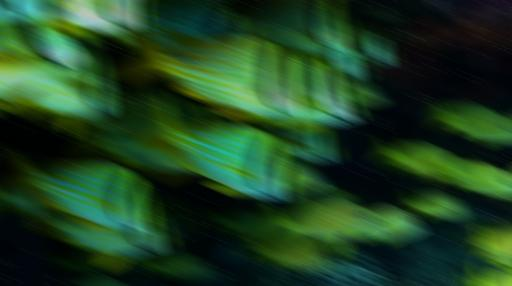Fish: (118, 26, 307, 116), (143, 100, 294, 197), (2, 146, 157, 229), (0, 43, 118, 136), (26, 197, 173, 270), (247, 57, 362, 132), (71, 109, 189, 175), (261, 199, 380, 256), (0, 17, 94, 89), (240, 0, 359, 54), (136, 0, 247, 54), (82, 89, 183, 134), (373, 136, 458, 183), (426, 98, 511, 145), (242, 233, 333, 270), (258, 121, 339, 160), (46, 0, 147, 31), (132, 250, 213, 283), (439, 161, 511, 196), (354, 205, 421, 242), (203, 206, 270, 241), (152, 191, 201, 234), (401, 190, 464, 219), (468, 225, 511, 267), (46, 246, 108, 275), (355, 26, 396, 63), (327, 43, 372, 76), (0, 0, 67, 20), (342, 74, 385, 105), (288, 157, 325, 193), (0, 189, 39, 216), (313, 187, 354, 204), (478, 265, 495, 285), (88, 277, 125, 285), (0, 242, 16, 253), (492, 199, 511, 207), (496, 222, 511, 231)
